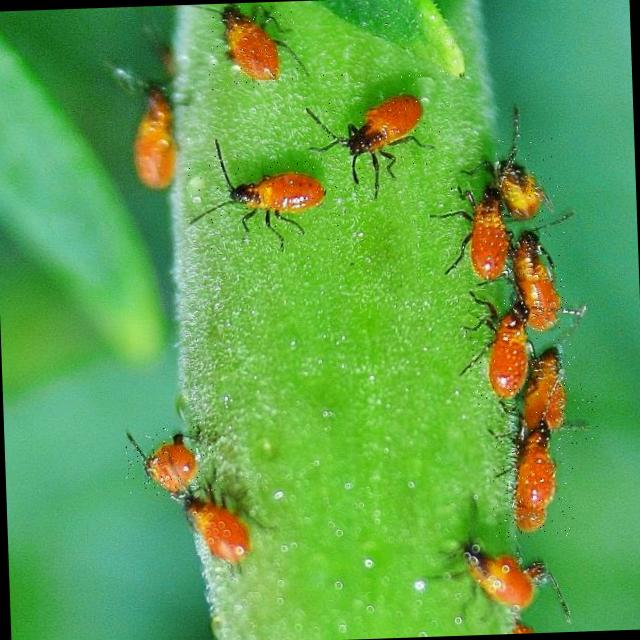aphid: (184, 151, 350, 252), (314, 69, 454, 182), (162, 484, 274, 572), (489, 425, 575, 539), (463, 295, 543, 413), (518, 337, 598, 446), (206, 0, 298, 94), (494, 130, 560, 234), (449, 182, 510, 290), (124, 426, 218, 496), (508, 228, 568, 332)
